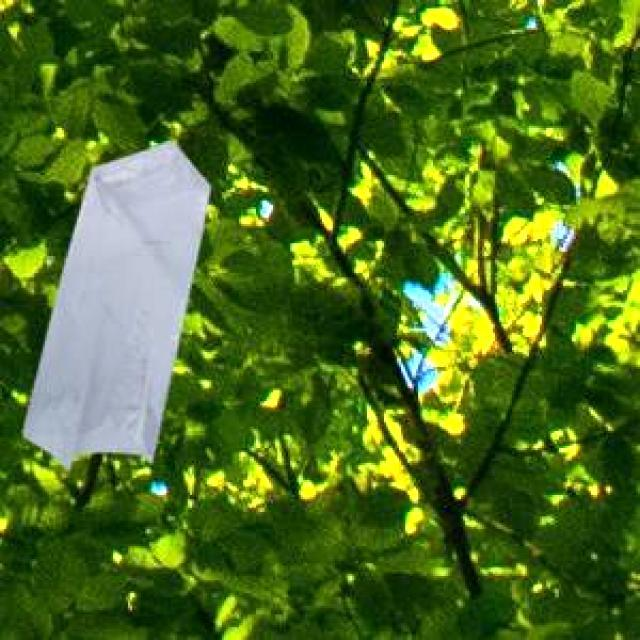Plastic_Bag: (20, 138, 208, 466)
